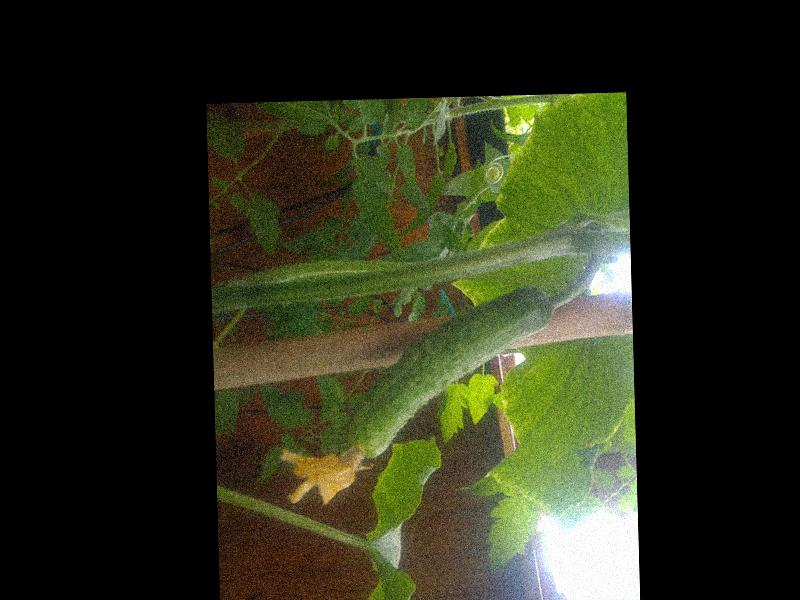Cucumber: (275, 287, 556, 507)
